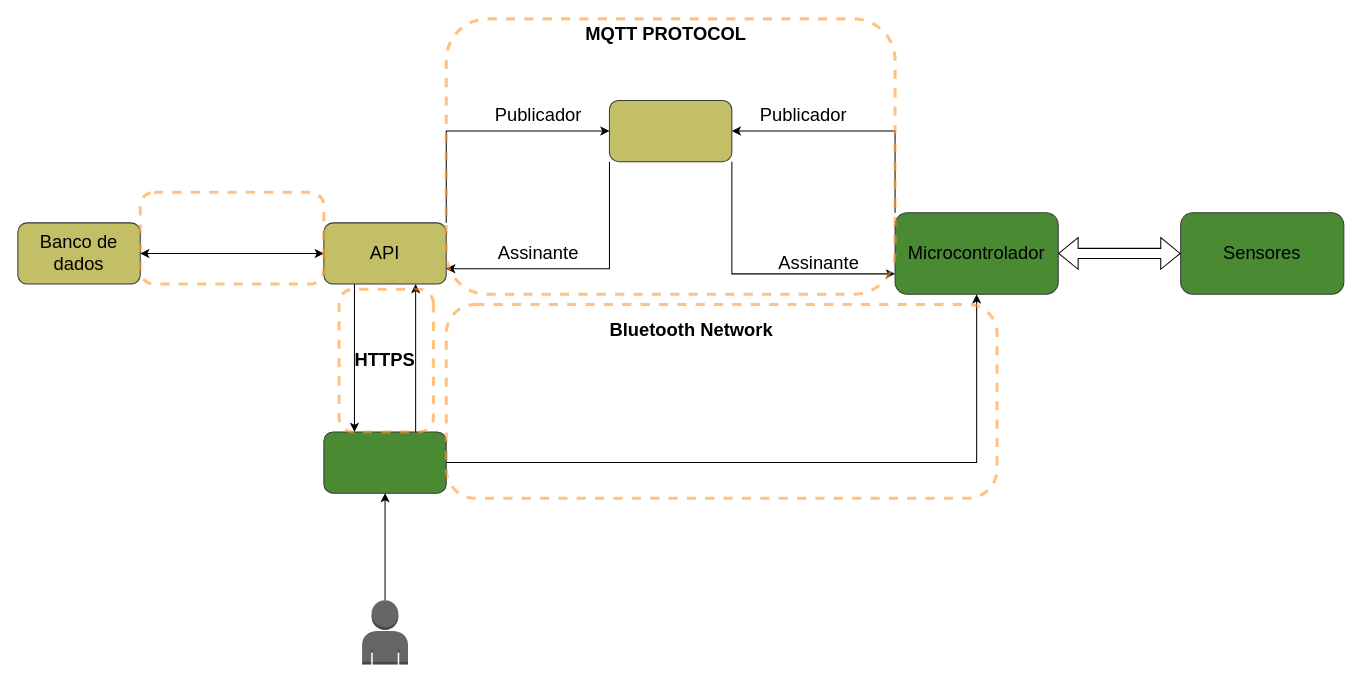
Some shapes in this 1362 by 683 pixel diagram are drawn without their labels. Each missing label, with the centre of its shape:
Aplicativo Móvel: the point at 384,462
MQTT Broker: the point at 670,130
TCP Protocol: the point at 231,237
